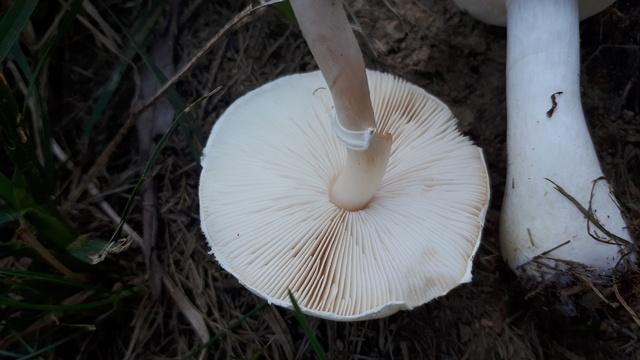poisonous_mushroom: (196, 65, 491, 321)
